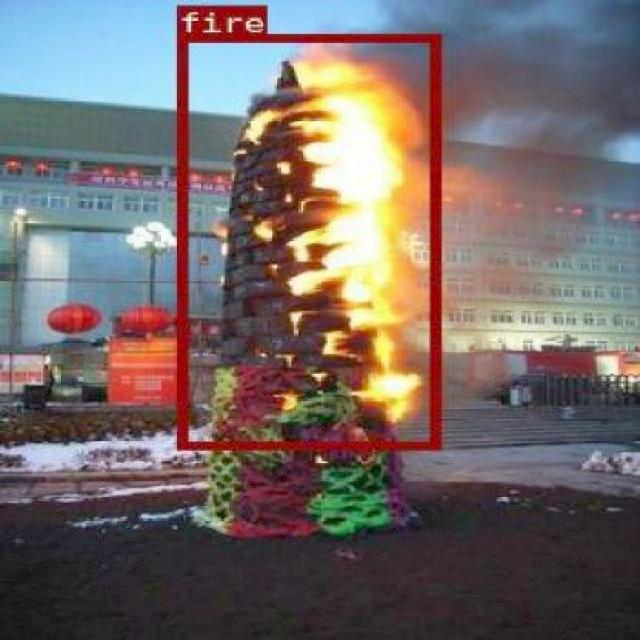fire: (175, 32, 437, 448)
